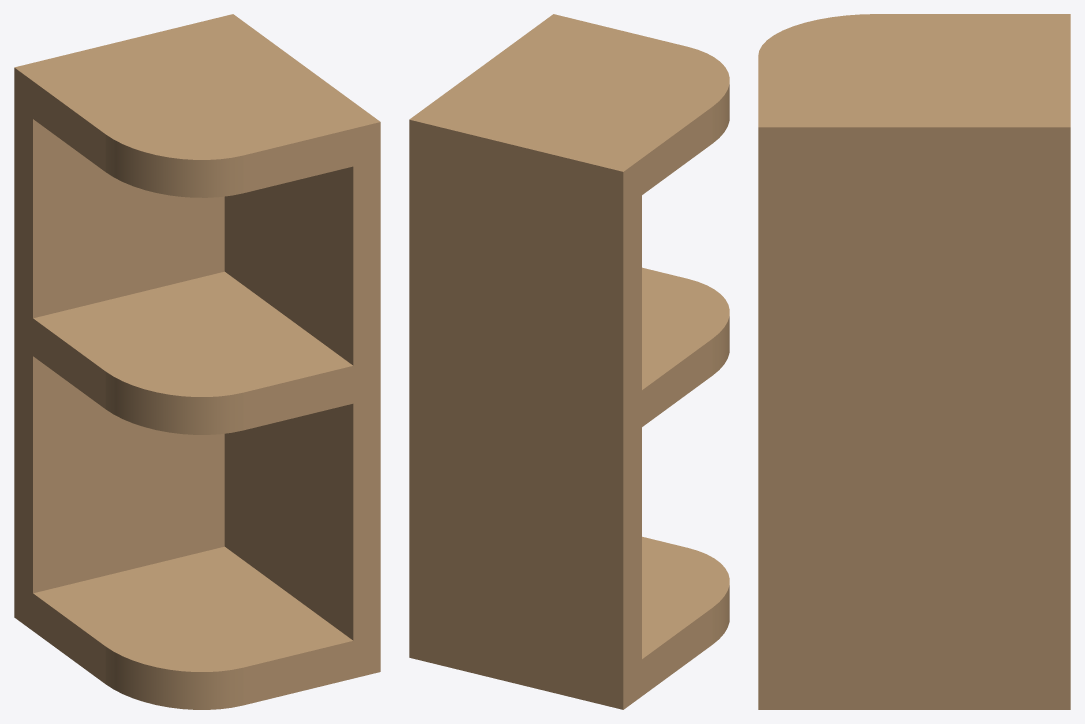
File: kitchen-wall-end.glb
3 views of the same model, side by side, from view 1: azimuth 30°, elevation 25°; view 2: azimuth 150°, elevation 25°; view 3: azimuth 270°, elevation 25° (orthographic). The views are drawn at different scales.
Visible parts, largest first — view 1: kitchen-wall-end; view 2: kitchen-wall-end; view 3: kitchen-wall-end.
Boxes of the visible parts, x1=… form: kitchen-wall-end: x1=14, y1=14, x2=380, y2=709; kitchen-wall-end: x1=409, y1=14, x2=729, y2=709; kitchen-wall-end: x1=758, y1=14, x2=1070, y2=709.
Size of the model in its own units: 0.3 by 0.72 by 0.35.
